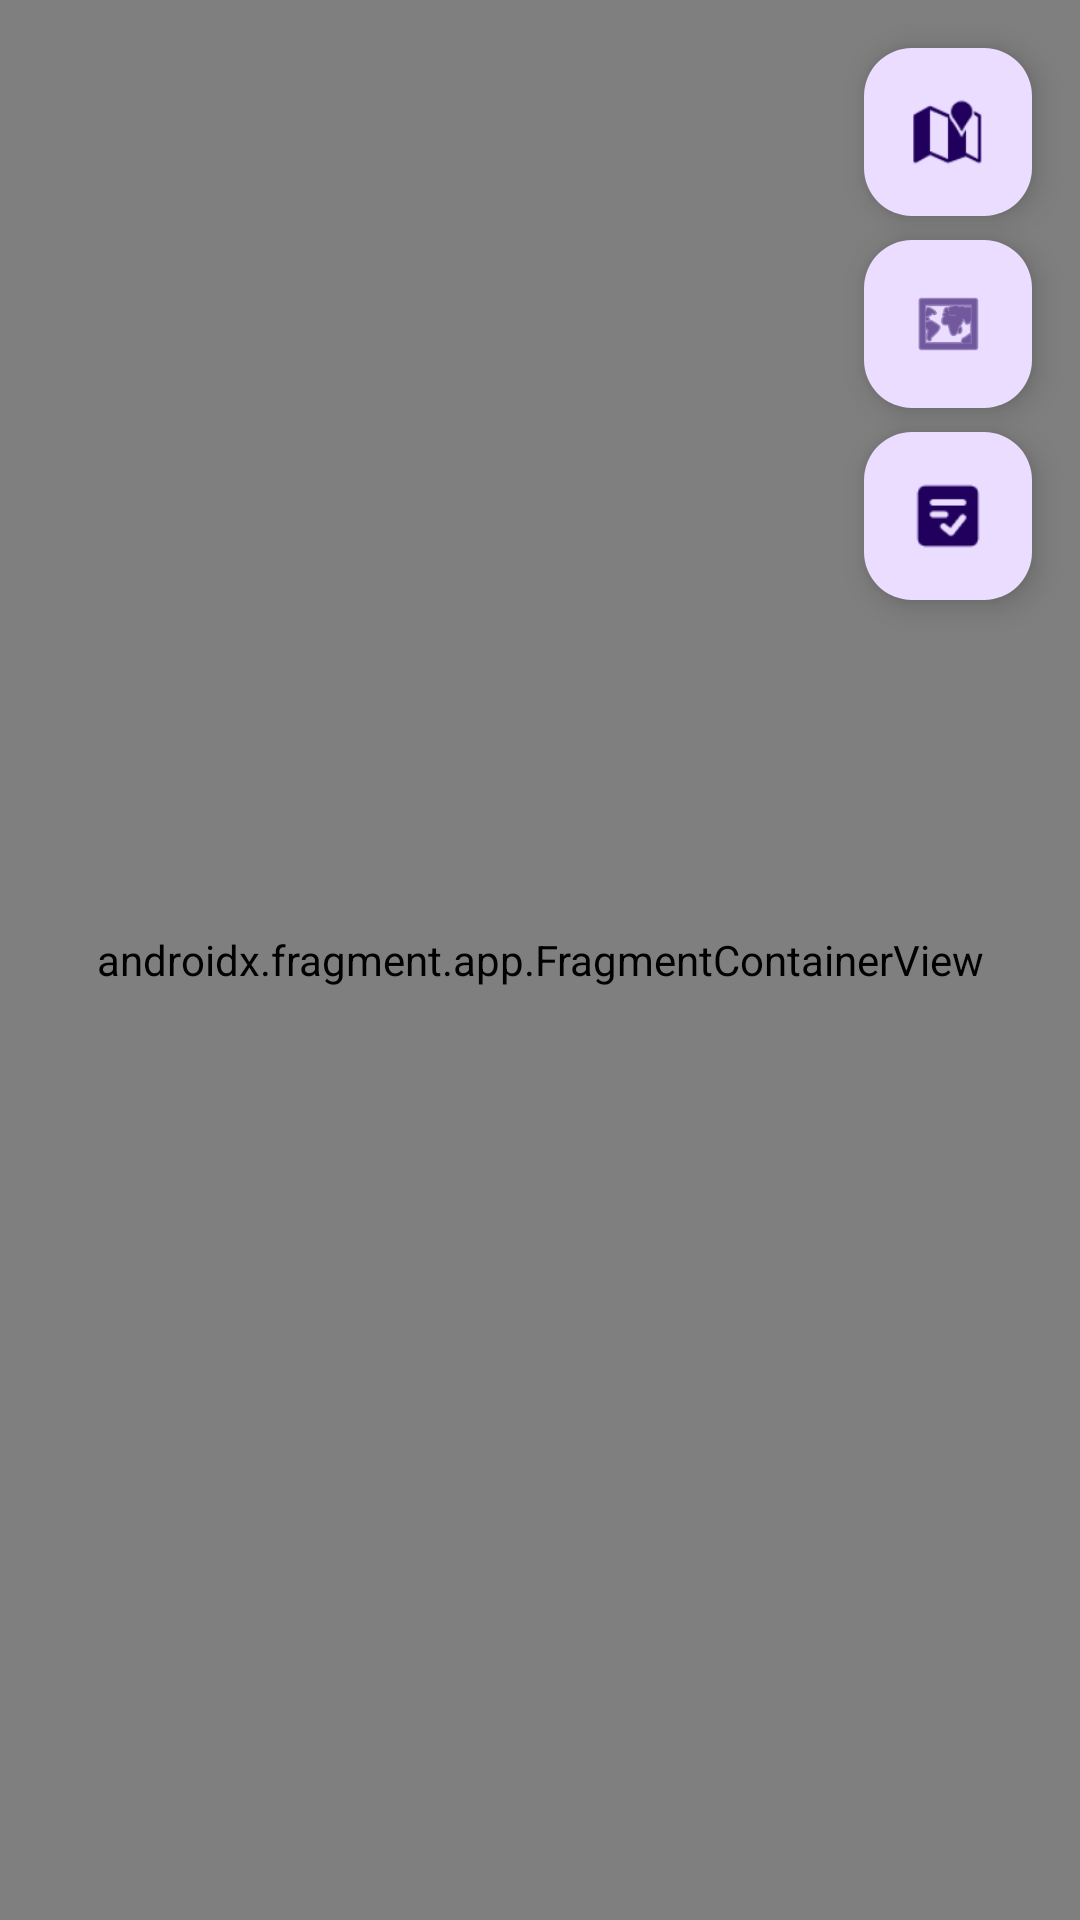

Icon click points for this 1080px x 1920px phone screenshot, format (x=x, y=y):
laporan: (x=948, y=516)
map: (x=948, y=132)
mapmode: (x=948, y=324)
